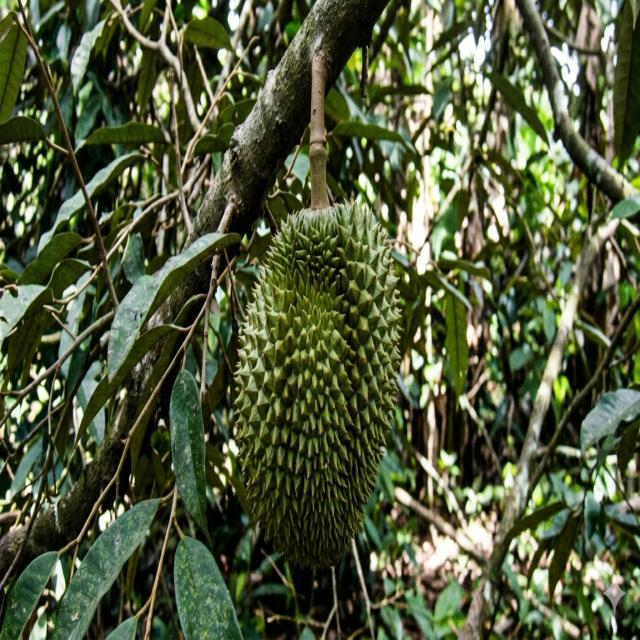immature: (233, 193, 399, 567)
